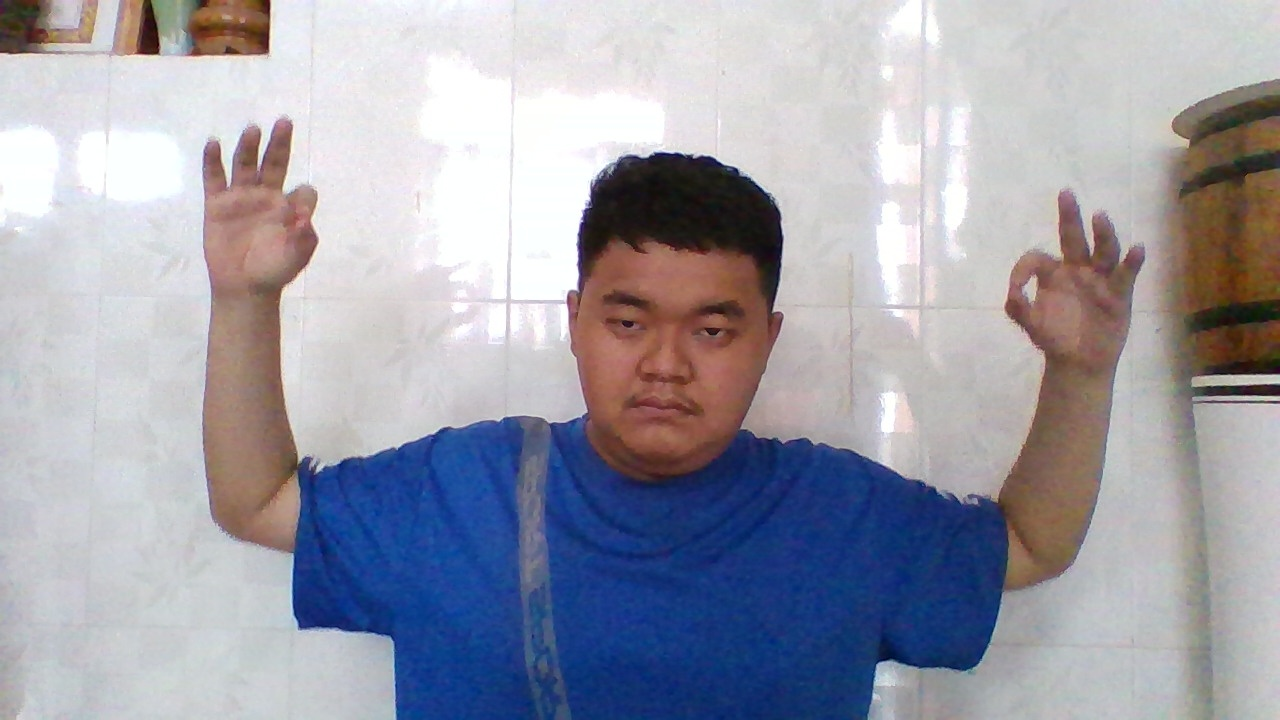T: (993, 182, 1154, 379), (195, 110, 326, 305)
